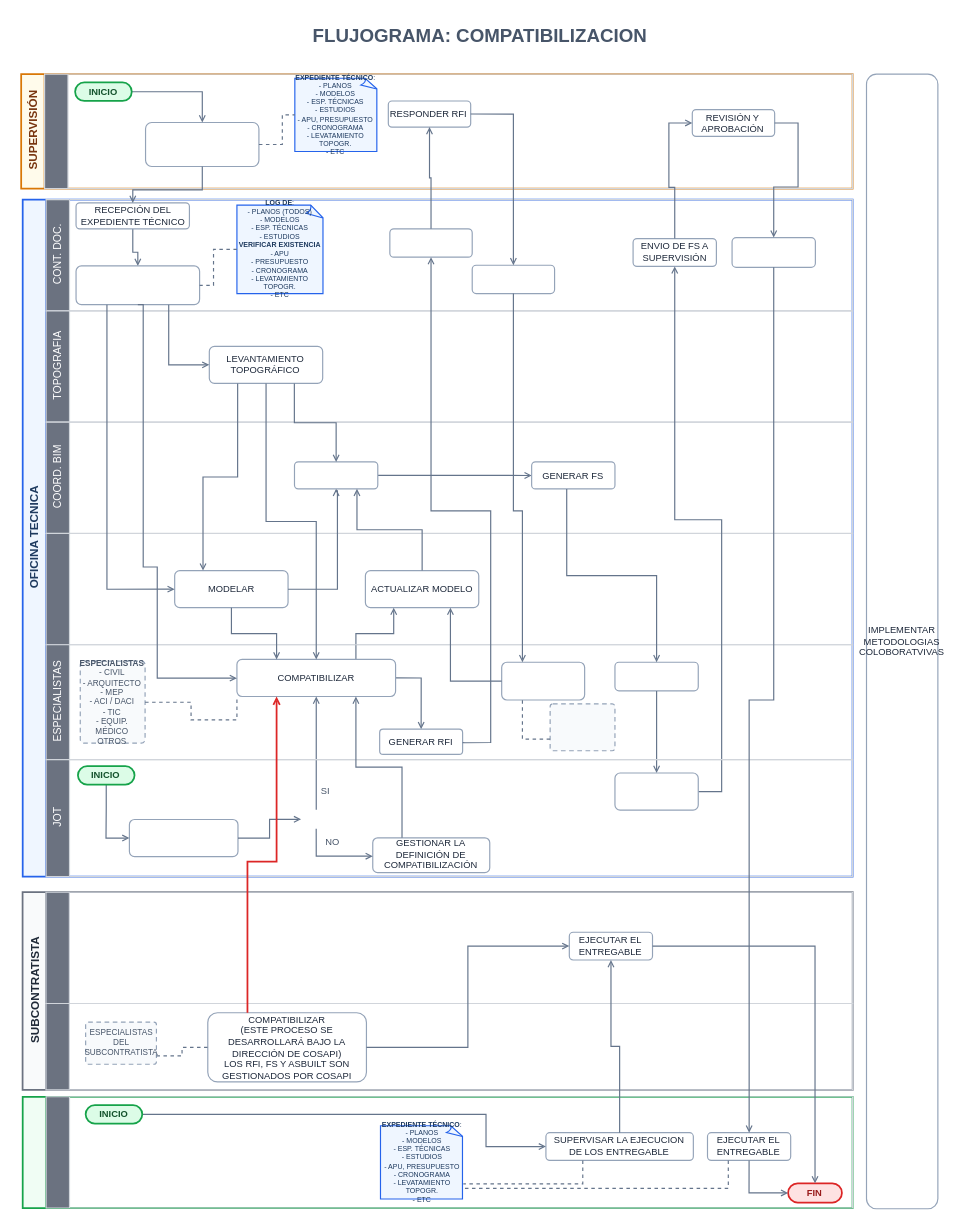
This 965x1230 diagram has some shape labels left out. Here are the shapes that lost their labels. From the top down, the box of each, then its label:
(144, 121, 259, 166): ENTREGA DEL EXPEDIENTE TÉCNICO
(43, 73, 853, 189): CONT. DOC-
(389, 228, 472, 257): ENVIAR RFI
(731, 236, 815, 267): ENVIO DE FS A PRODUCCIÓN
(75, 265, 200, 305): VERIFICAR E IDENTIFICAR DOCUMENTOS RECIBIDOS
(471, 264, 555, 294): RECIBIR RFI
(293, 461, 378, 489): INTEGRAR MODELOS
(45, 532, 853, 645): MOD. BIM
(501, 661, 585, 700): VALIDAR RESPUESTA AL RFI
(614, 661, 698, 691): REVISIÓN Y FIRMA DEL FS
(549, 703, 615, 751): EN CASO LA RESPUESTA NO SEA SATISFACTORIA SE DEBE VOLVER A GENERAR EL RFI
(614, 772, 698, 810): VALIDACIÓN Y FIRMA DEL FS
(128, 818, 238, 857): ¿EL CONTRATO DEFINE BIEN LA COMPATIBILIZACION?
(45, 891, 853, 1004): CONSTRUCCION
(45, 1002, 853, 1090): OT
(21, 1095, 853, 1208): CONSTRUCCIÓN
